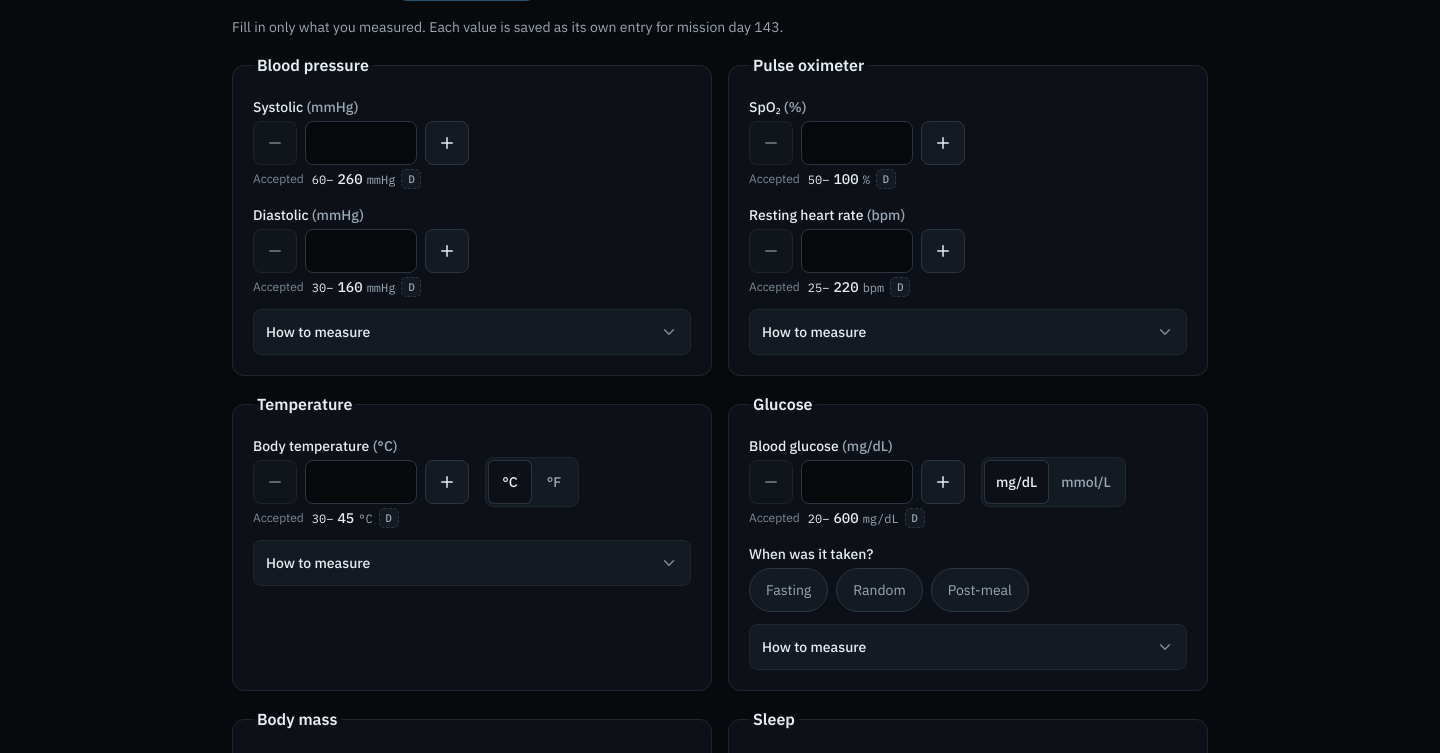
it: ManualVitalsForm › blocks systolic < diastolic with a clear message and saves nothing
Step 1. Type "70" into the field labelled "Systolic (mmHg)" → {"x": 361, "y": 143}, box [305,121,417,165]
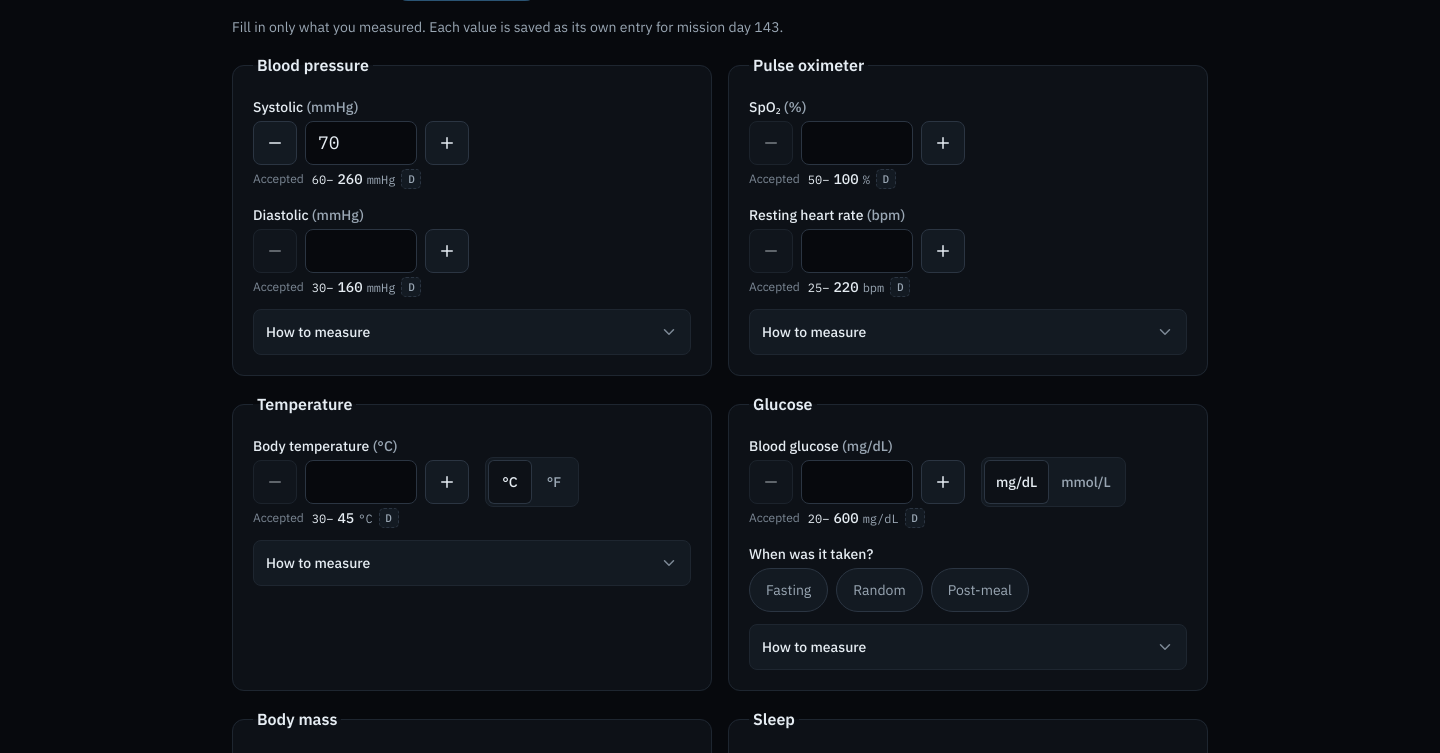
Step 2. Type "90" into the field labelled "Diastolic (mmHg)" → {"x": 361, "y": 251}, box [305,229,417,273]
(page scrolled)
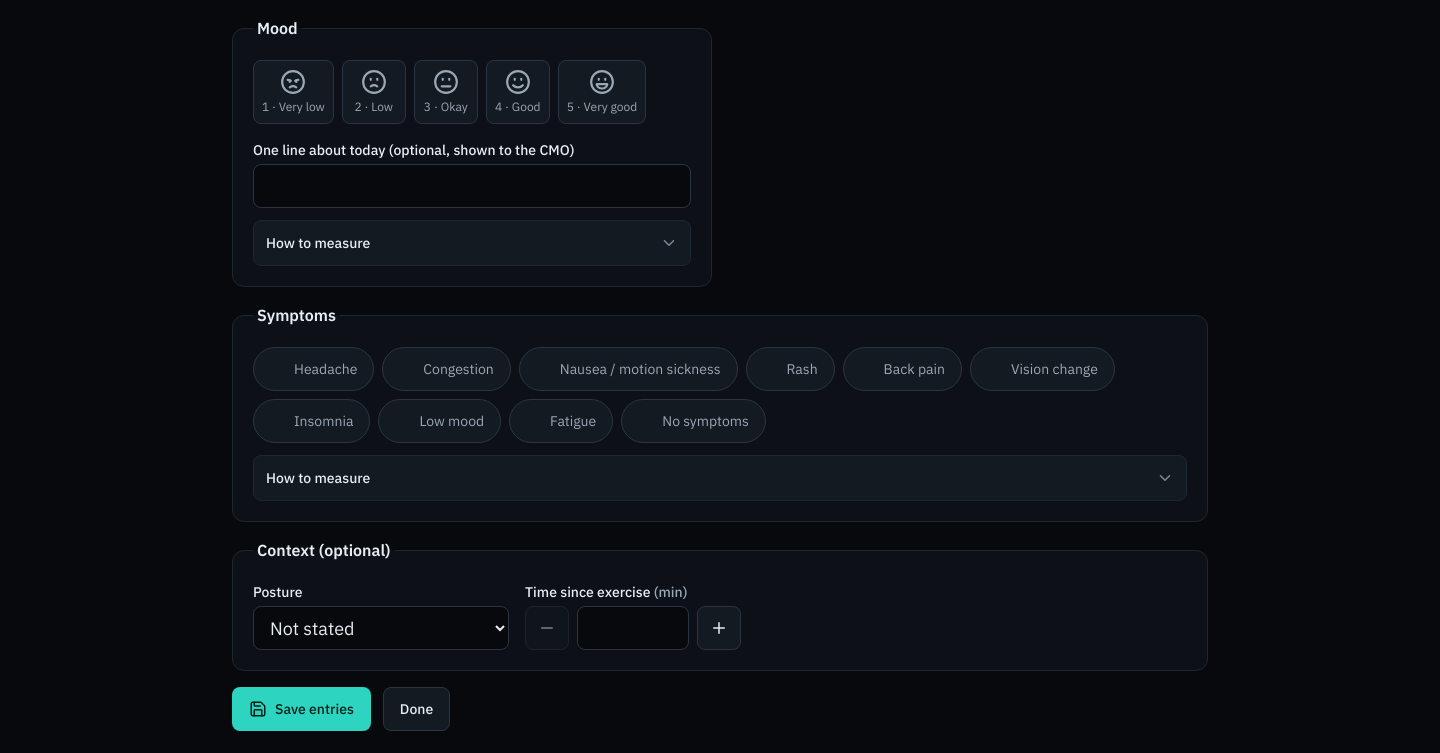
Step 3. Click the button "Save entries" → {"x": 301, "y": 709}, box [232,687,371,731]
(page scrolled)
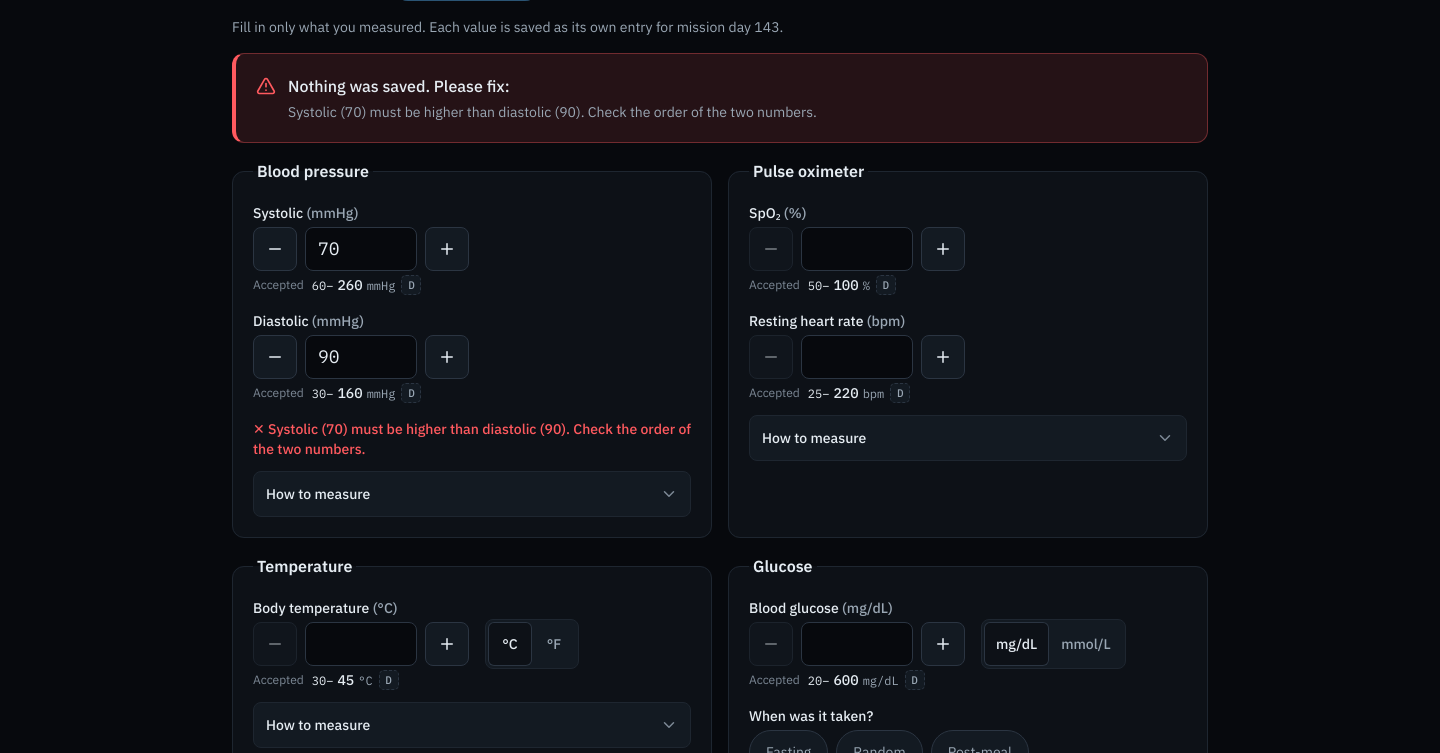
Check: the message shows "Nothing was saved", box [288,76,510,96]
Check: the message shows "Systolic (70) must be higher than diastolic (90).", box [288,103,817,121]
